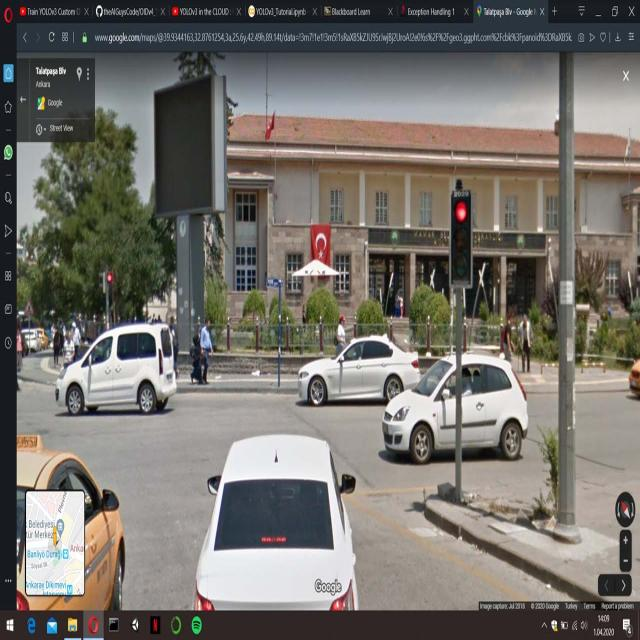kirmizi: (452, 193, 471, 286)
